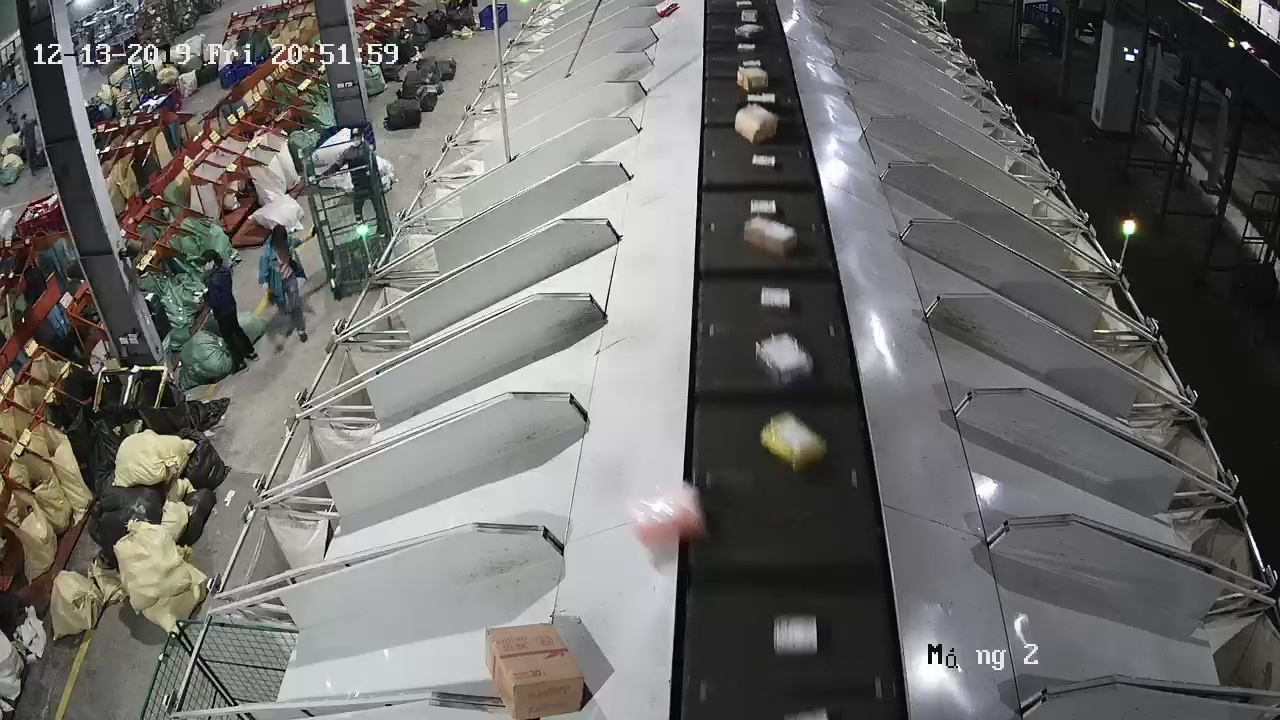parcel: (629, 481, 710, 547)
